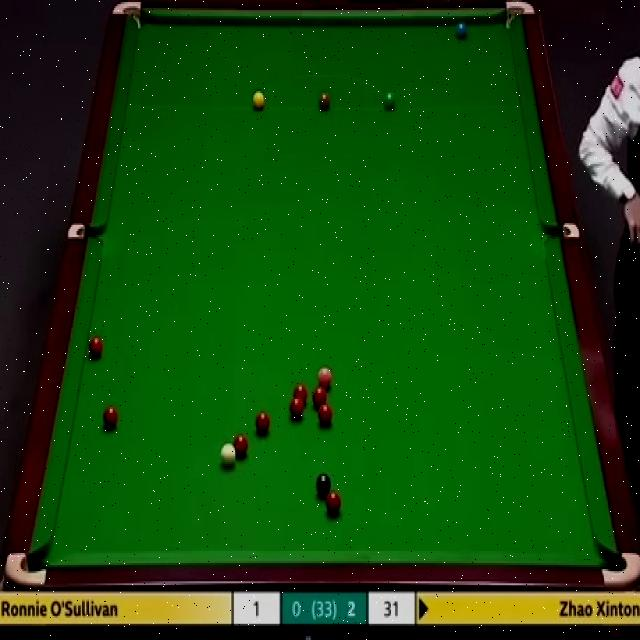black-ball: (315, 472, 332, 501)
blue-ball: (455, 19, 470, 43)
brown-ball: (318, 92, 331, 113)
green-ball: (383, 91, 397, 113)
pink-ball: (314, 365, 333, 390)
red-ball: (100, 402, 119, 432), (232, 434, 250, 462), (325, 492, 342, 516), (288, 398, 305, 421), (256, 413, 272, 437), (87, 335, 102, 360), (318, 403, 333, 426), (292, 384, 308, 404), (312, 387, 328, 407)
white-ball: (218, 442, 238, 472)
yellow-ball: (252, 90, 266, 112)
